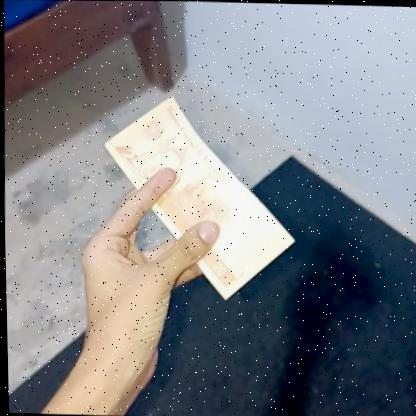twenty-back-vef: (98, 93, 296, 301)
